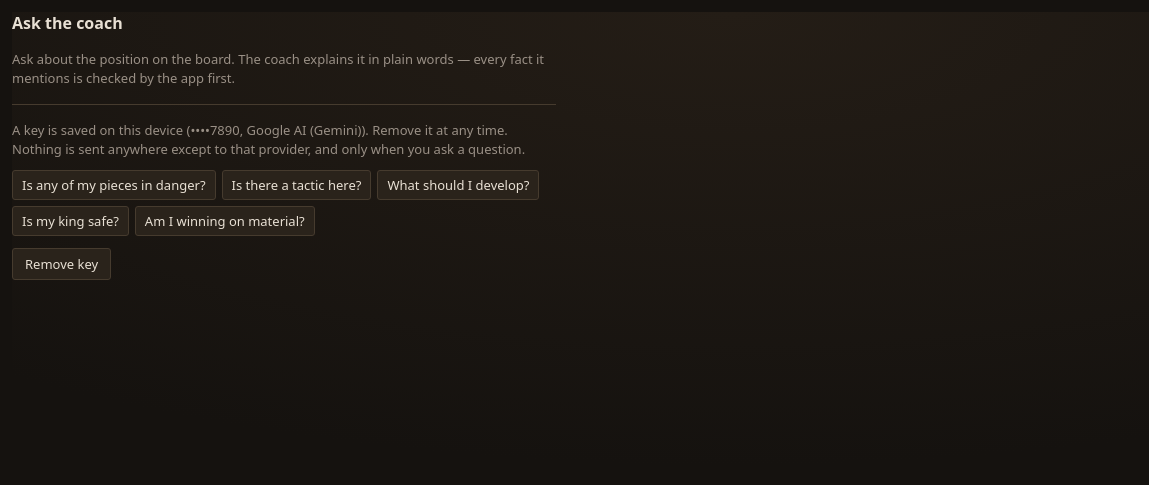
Test: CoachPanel: asking › shows the token count, because that is what the app can measure
Click the button with test id "coach-ask-hanging". click: point(114, 185)
box: [12,170,216,200]
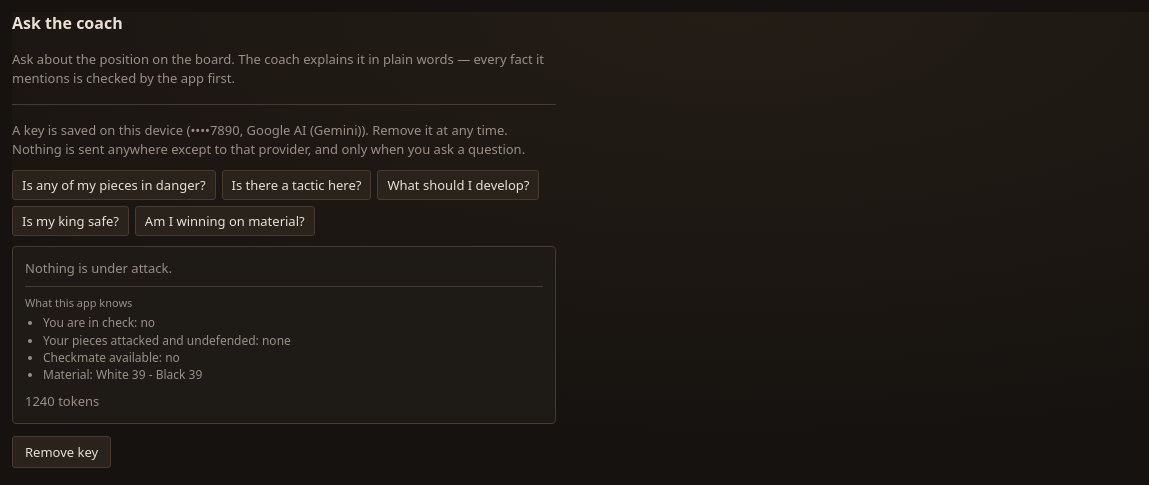
Result: the text with test id "coach-usage" reads "1240 tokens" at [25,392,99,410]
